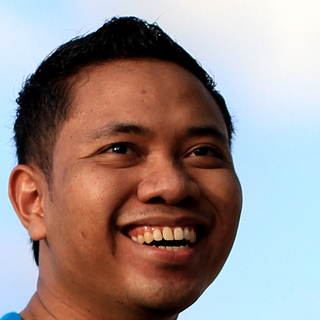eye: (86, 130, 147, 166), (176, 139, 226, 165)
